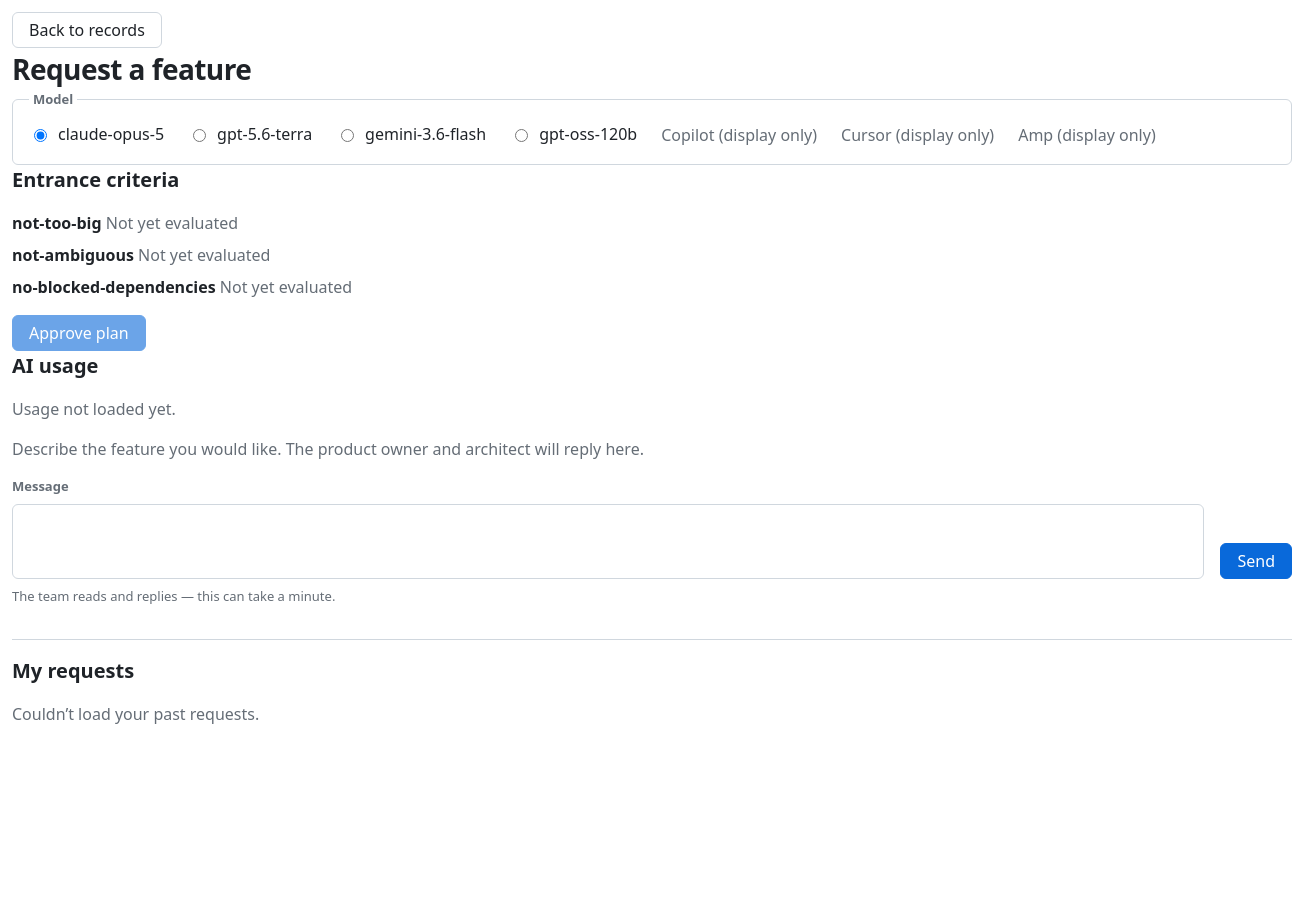
DAN-81 approved session › links the building view to the approved request’s linearProjectUrl and shows its planning cost
Step 1. Type "Please add CSV export" into the text box labelled "Message" → point(608, 542), box [12, 504, 1204, 579]
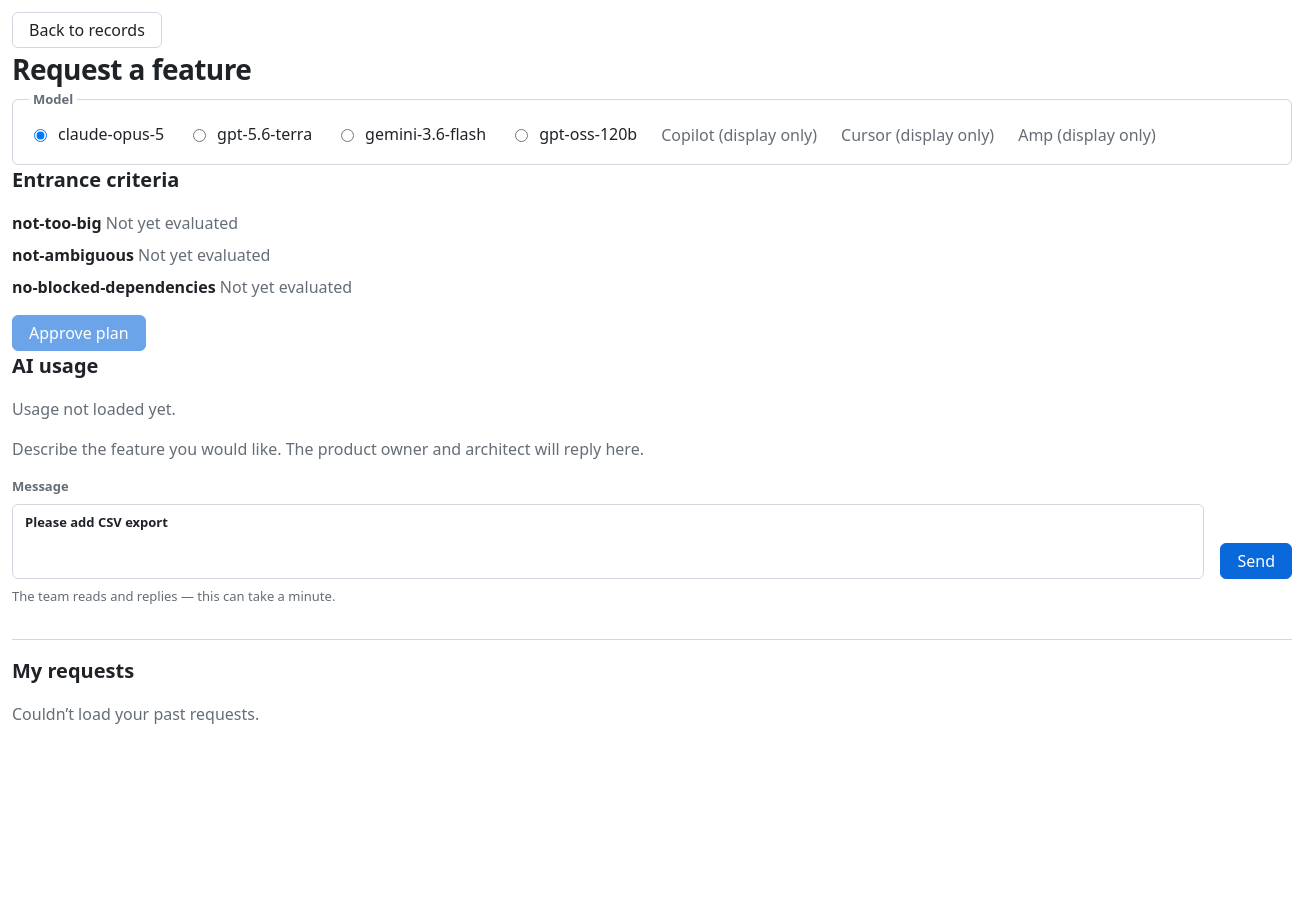
Step 2. Click the button "Send" → point(1256, 561), box [1220, 543, 1292, 579]
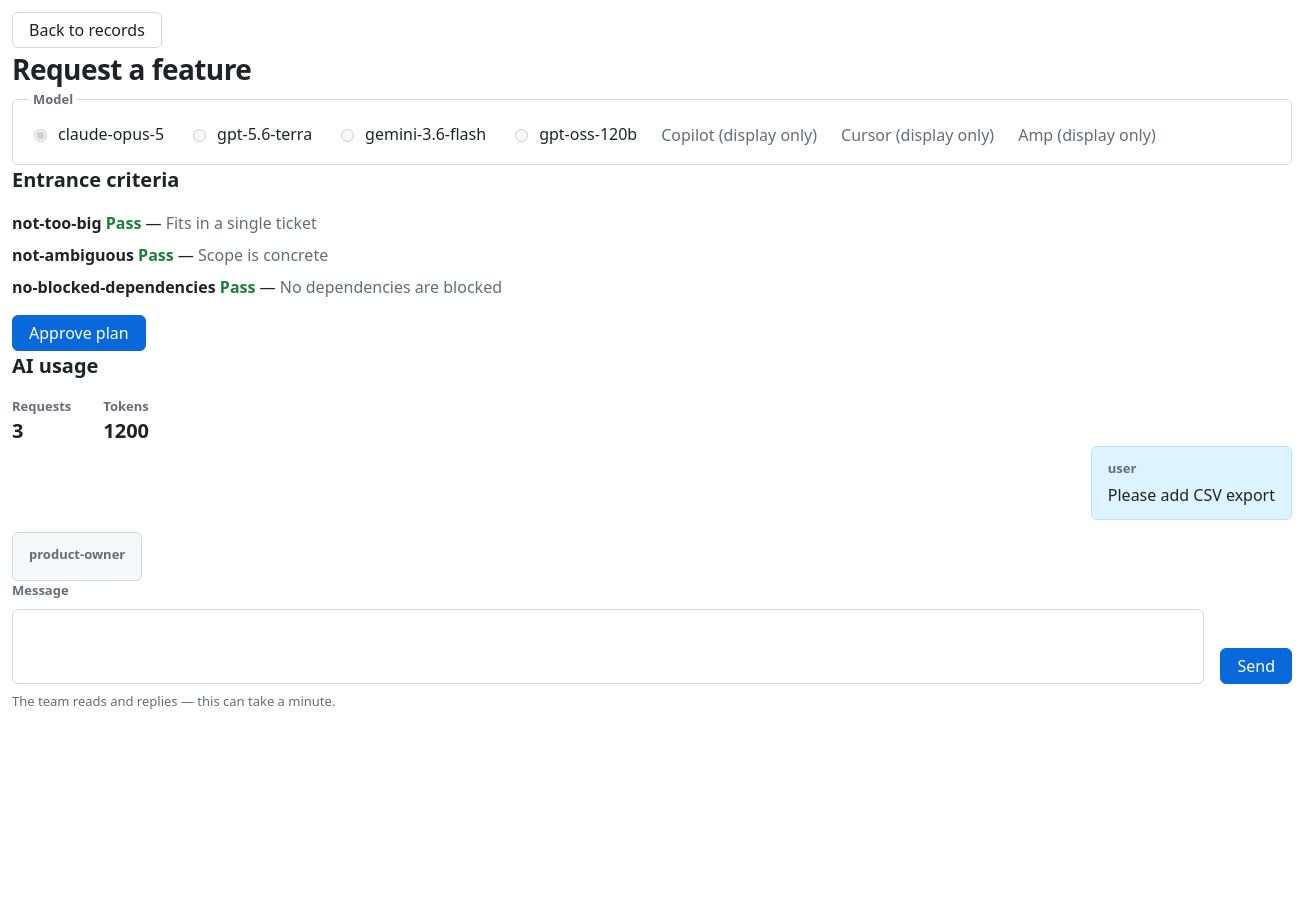
Check: the list named "Conversation" is shown, box [12, 446, 1292, 581]
Step 3. Click the button "Approve plan" → point(79, 332), box [12, 314, 146, 350]
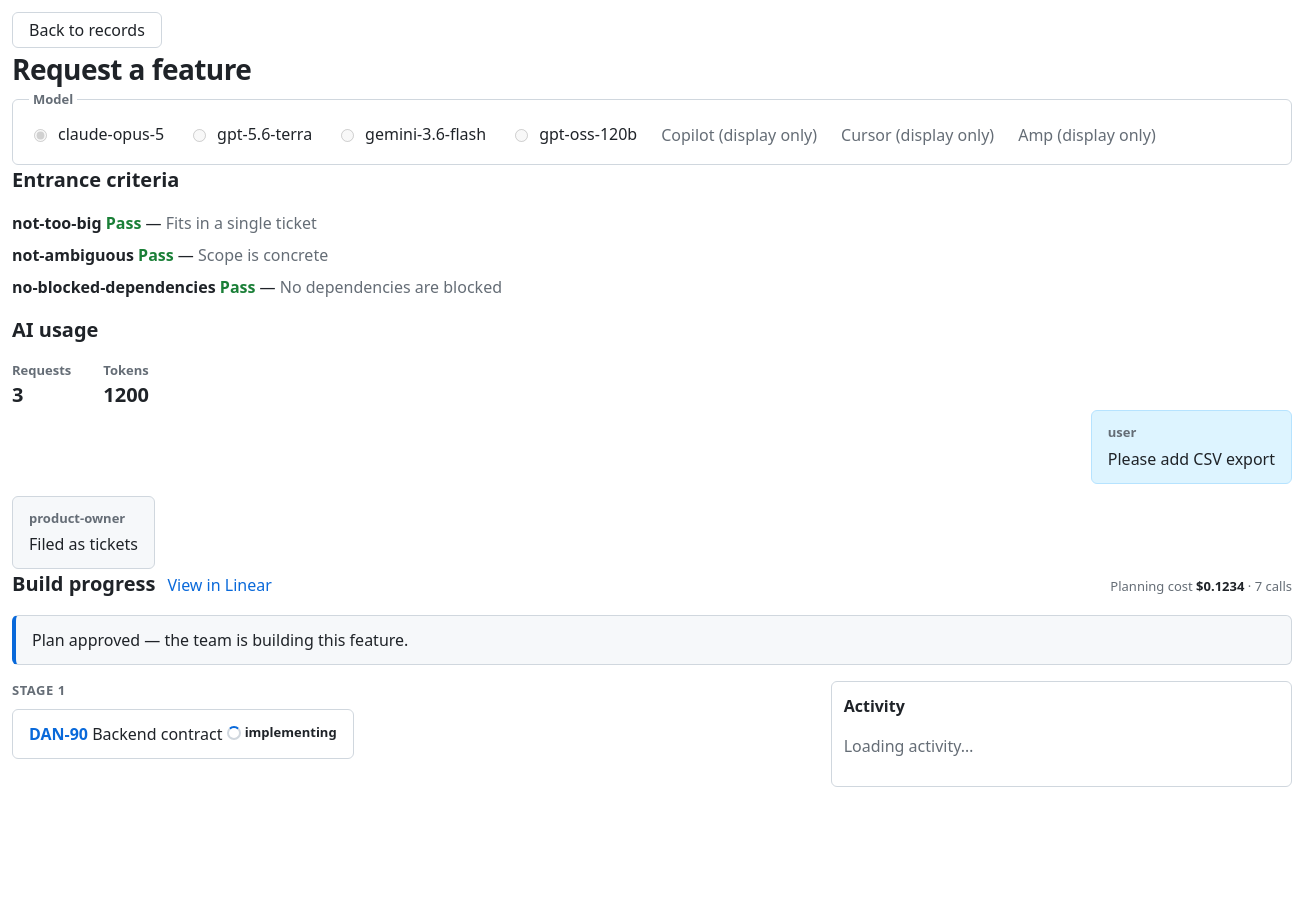
Check: the element "Build progress" is shown, box [12, 569, 1292, 787]
Check: the text "Planning cost $0.1234 · 7 calls" is shown, box [1110, 577, 1292, 596]
